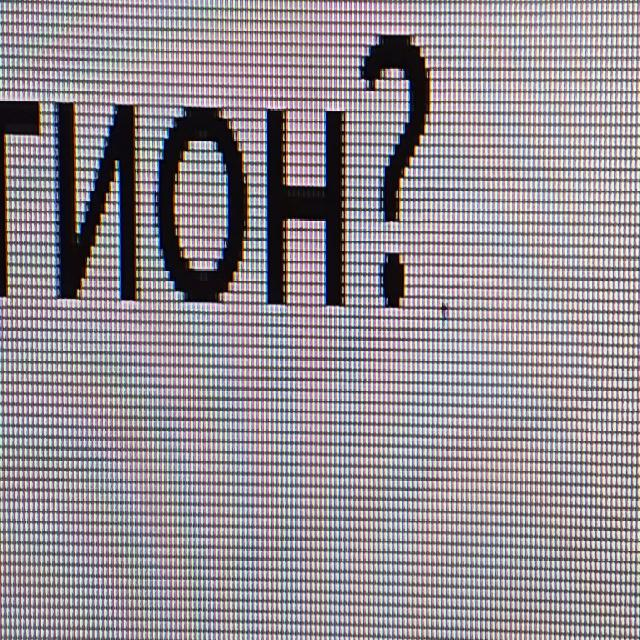Dead pixel: (441, 300, 449, 322)
